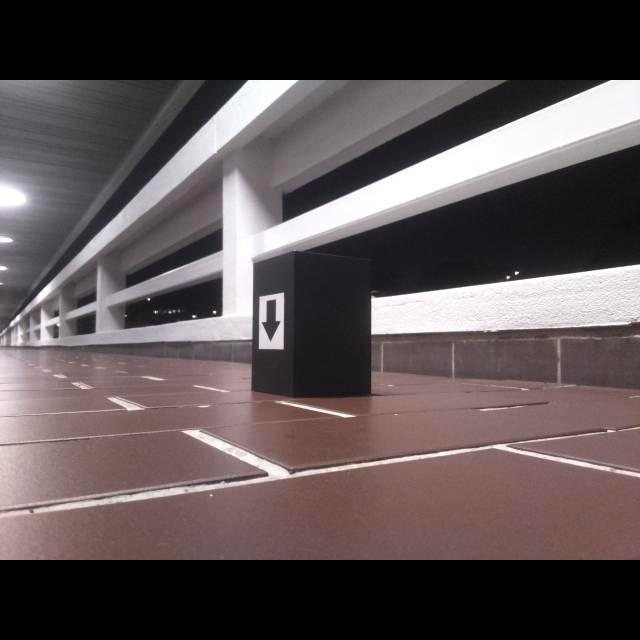DOWN: (260, 298, 282, 344)
